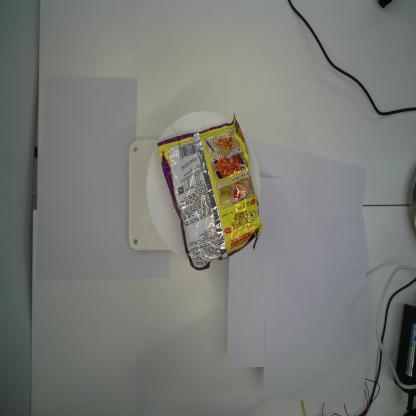Instant Noodles: (156, 111, 266, 272)
